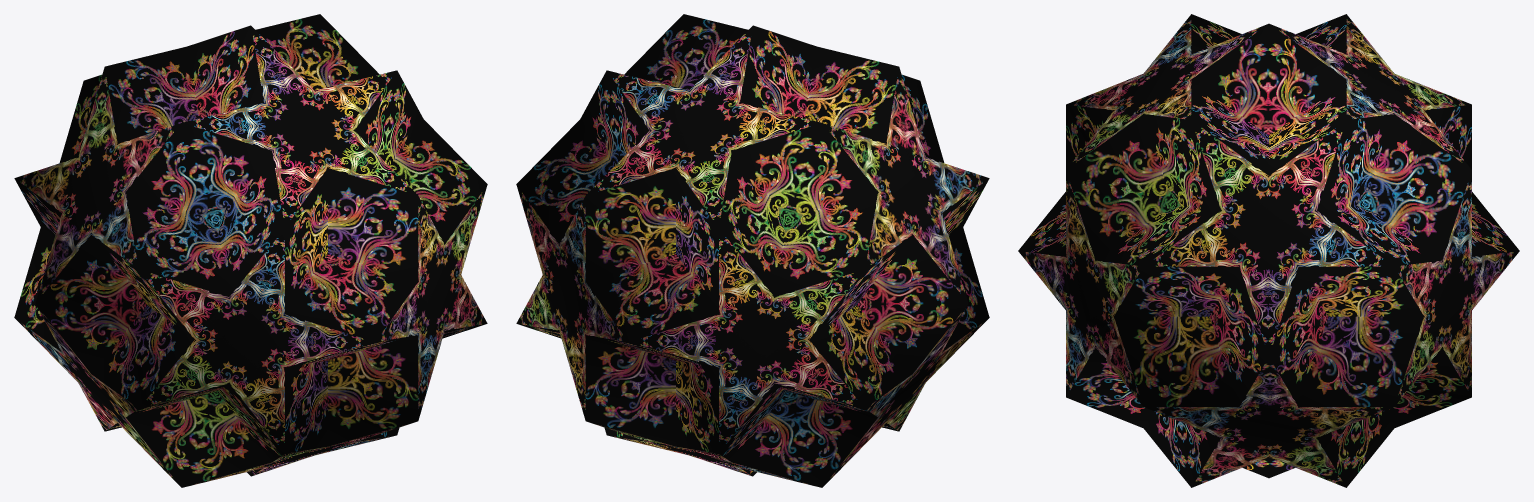
File: 9Dodecadodecahedron.gltf
The picture shows the model from 3 angles, left to right: view 1: azimuth 30°, elevation 25°; view 2: azimuth 150°, elevation 25°; view 3: azimuth 270°, elevation 25°; orthographic projection.
Parts seen in each view (by area): view 1: 7Dodecadodecahedron; view 2: 7Dodecadodecahedron; view 3: 7Dodecadodecahedron.
Boxes of the visible parts, bbox=[...] form: 7Dodecadodecahedron: bbox=[14, 14, 487, 487]; 7Dodecadodecahedron: bbox=[516, 14, 989, 487]; 7Dodecadodecahedron: bbox=[1018, 14, 1519, 487].
Size of the model in its own units: 2 by 2 by 2.
1 material, 1 textured.
